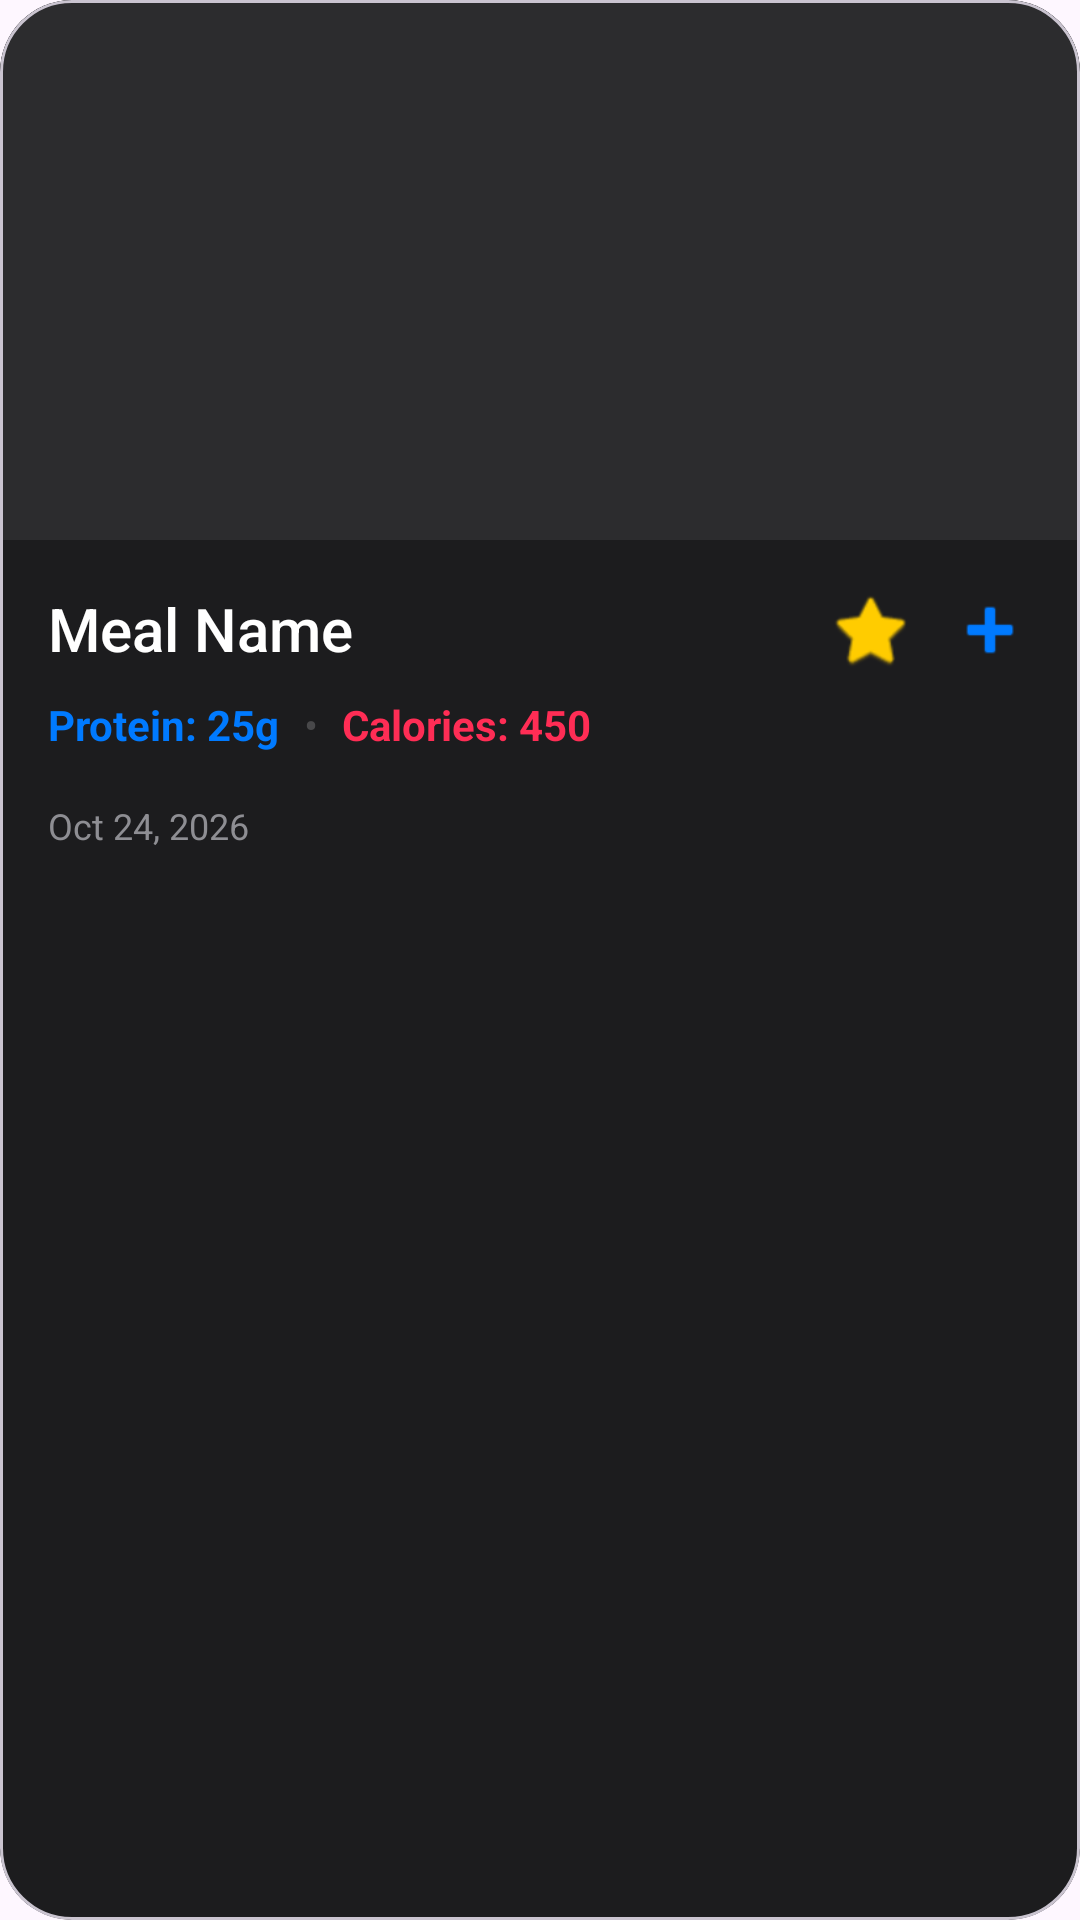

Point at icon controls on the screen. Image size 1080x1920, points as (x,y).
add: (990,630)
star on: (871,631)
